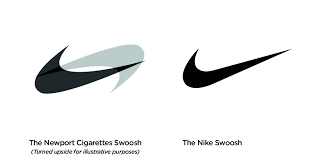nike: (164, 29, 300, 104), (31, 28, 151, 102)
